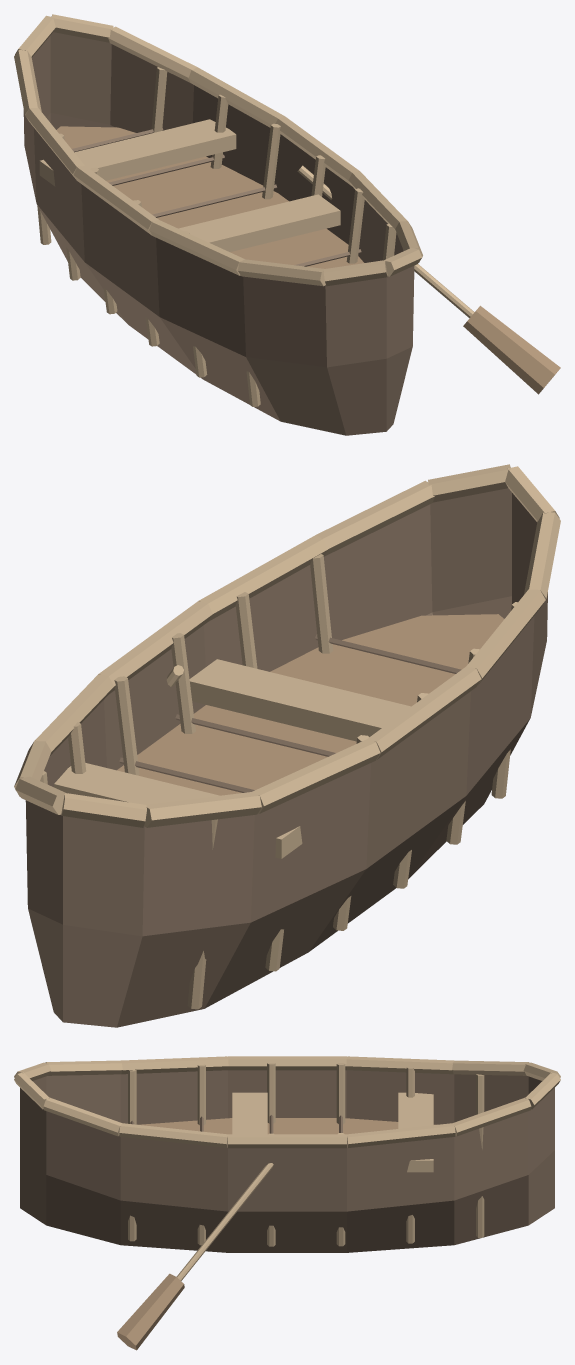
The model's file is skiff.glb.
The picture shows the model from 3 angles, top to bottom: view 1: azimuth 30°, elevation 25°; view 2: azimuth 150°, elevation 25°; view 3: azimuth 270°, elevation 25°; orthographic projection. The views are drawn at different scales.
Visible parts, largest first — view 1: skiff_wood_dark, skiff_wood_light, skiff_wood, paddle_wood, paddle_wood_light; view 2: skiff_wood_dark, skiff_wood_light, skiff_wood; view 3: skiff_wood_dark, skiff_wood_light, skiff_wood, paddle_wood, paddle_wood_light.
Boxes of the visible parts, bbox=[...] form: skiff_wood_dark: bbox=[23, 32, 414, 435]; skiff_wood_light: bbox=[14, 14, 422, 406]; skiff_wood: bbox=[56, 126, 363, 268]; paddle_wood: bbox=[463, 305, 560, 394]; paddle_wood_light: bbox=[297, 165, 474, 317]; skiff_wood_dark: bbox=[25, 488, 547, 1027]; skiff_wood_light: bbox=[14, 464, 560, 1009]; skiff_wood: bbox=[117, 614, 504, 795]; skiff_wood_dark: bbox=[20, 1070, 554, 1252]; skiff_wood_light: bbox=[14, 1056, 560, 1246]; skiff_wood: bbox=[138, 1118, 436, 1134]; paddle_wood: bbox=[117, 1273, 184, 1350]; paddle_wood_light: bbox=[176, 1163, 273, 1281].
Size of the model in its own units: 3.01 by 1.94 by 5.11.
